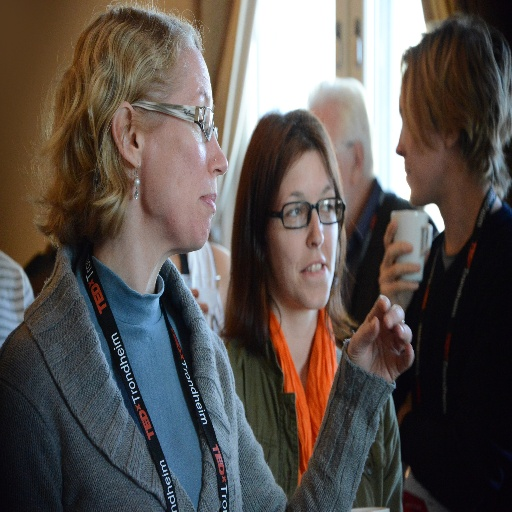hand: (350, 295, 416, 390), (378, 218, 428, 314), (189, 287, 208, 316)
